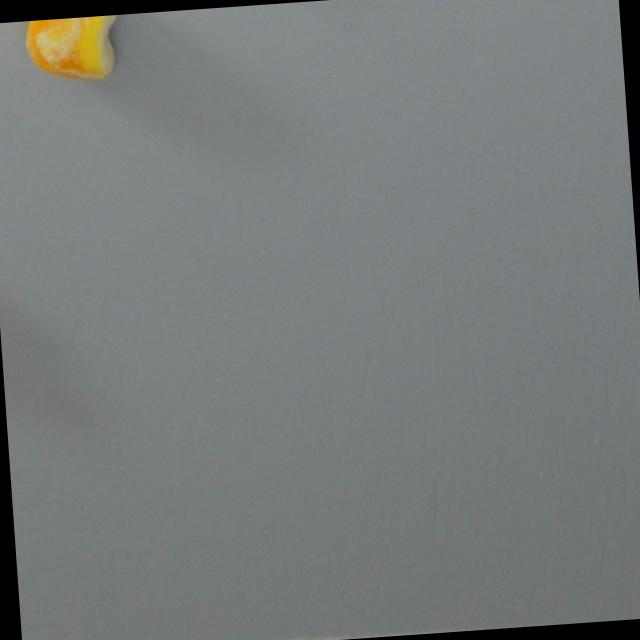pelicula: (20, 13, 125, 85)
